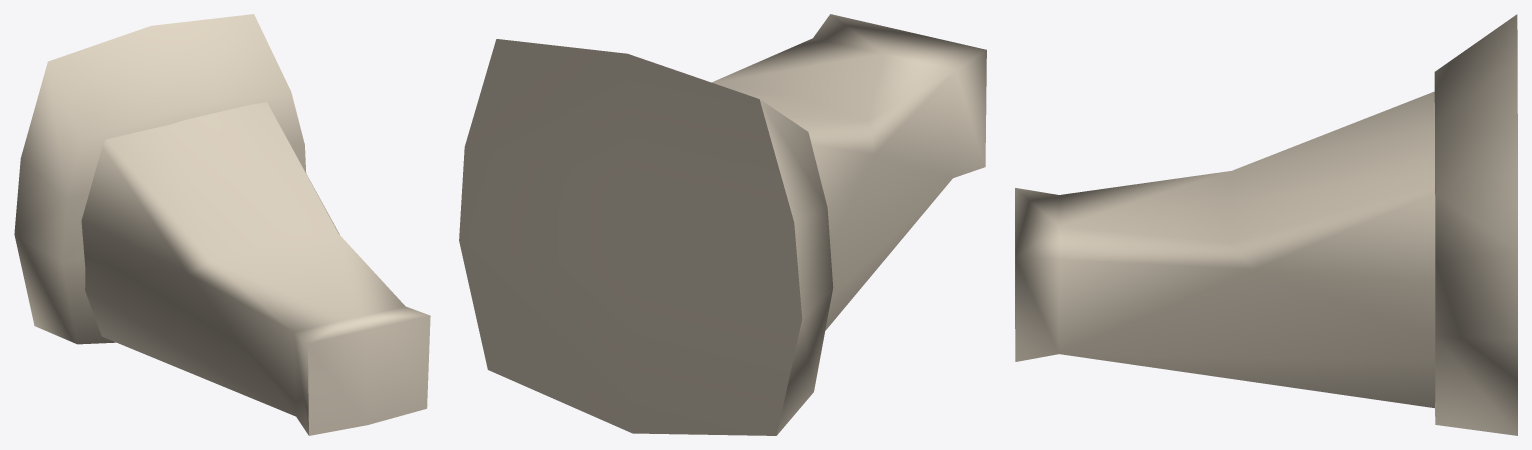
File: bow-bronzeweapons.glb
3 views of the same model, side by side, from view 1: azimuth 30°, elevation 25°; view 2: azimuth 150°, elevation 25°; view 3: azimuth 270°, elevation 25° (orthographic). The views are drawn at different scales.
Size of the model in its own units: 0.4909 by 0.518 by 0.6935.
